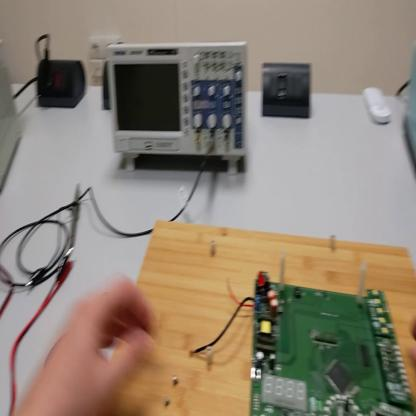hand: (26, 272, 160, 416), (411, 315, 416, 340)
low voltage board: (190, 257, 416, 416)
oscilloscope: (109, 45, 249, 175)
oscilloscope probe tip: (70, 186, 84, 247)
power supply: (2, 48, 23, 196)
socket: (36, 58, 87, 112), (102, 60, 113, 111)
welder station: (405, 43, 416, 172)
working area: (104, 220, 415, 413)
